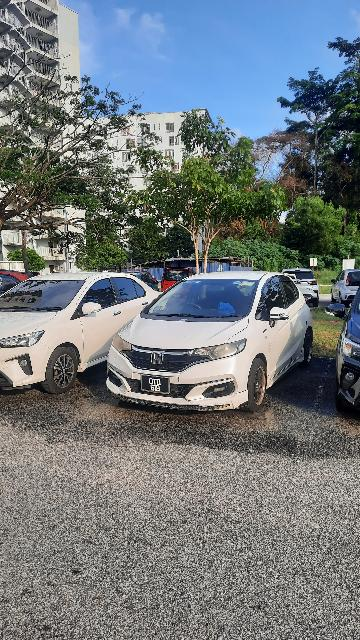License_Plate: (139, 372, 175, 399)
car: (105, 266, 317, 412), (1, 271, 167, 398)
